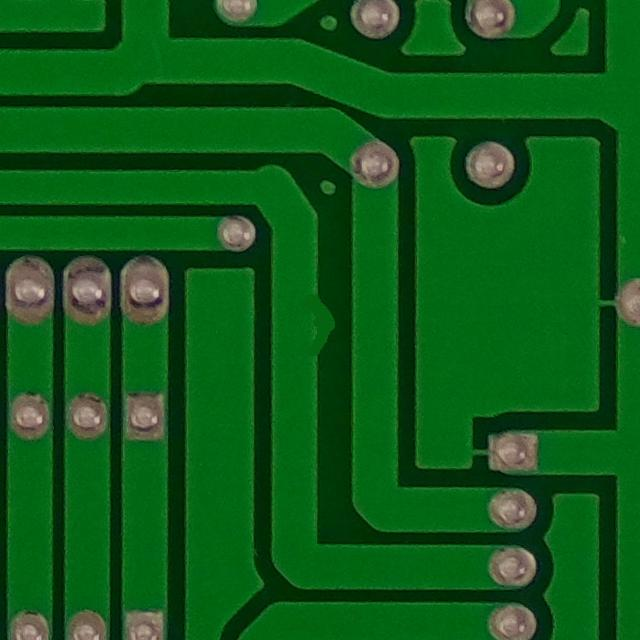spur: (284, 269, 357, 371)
